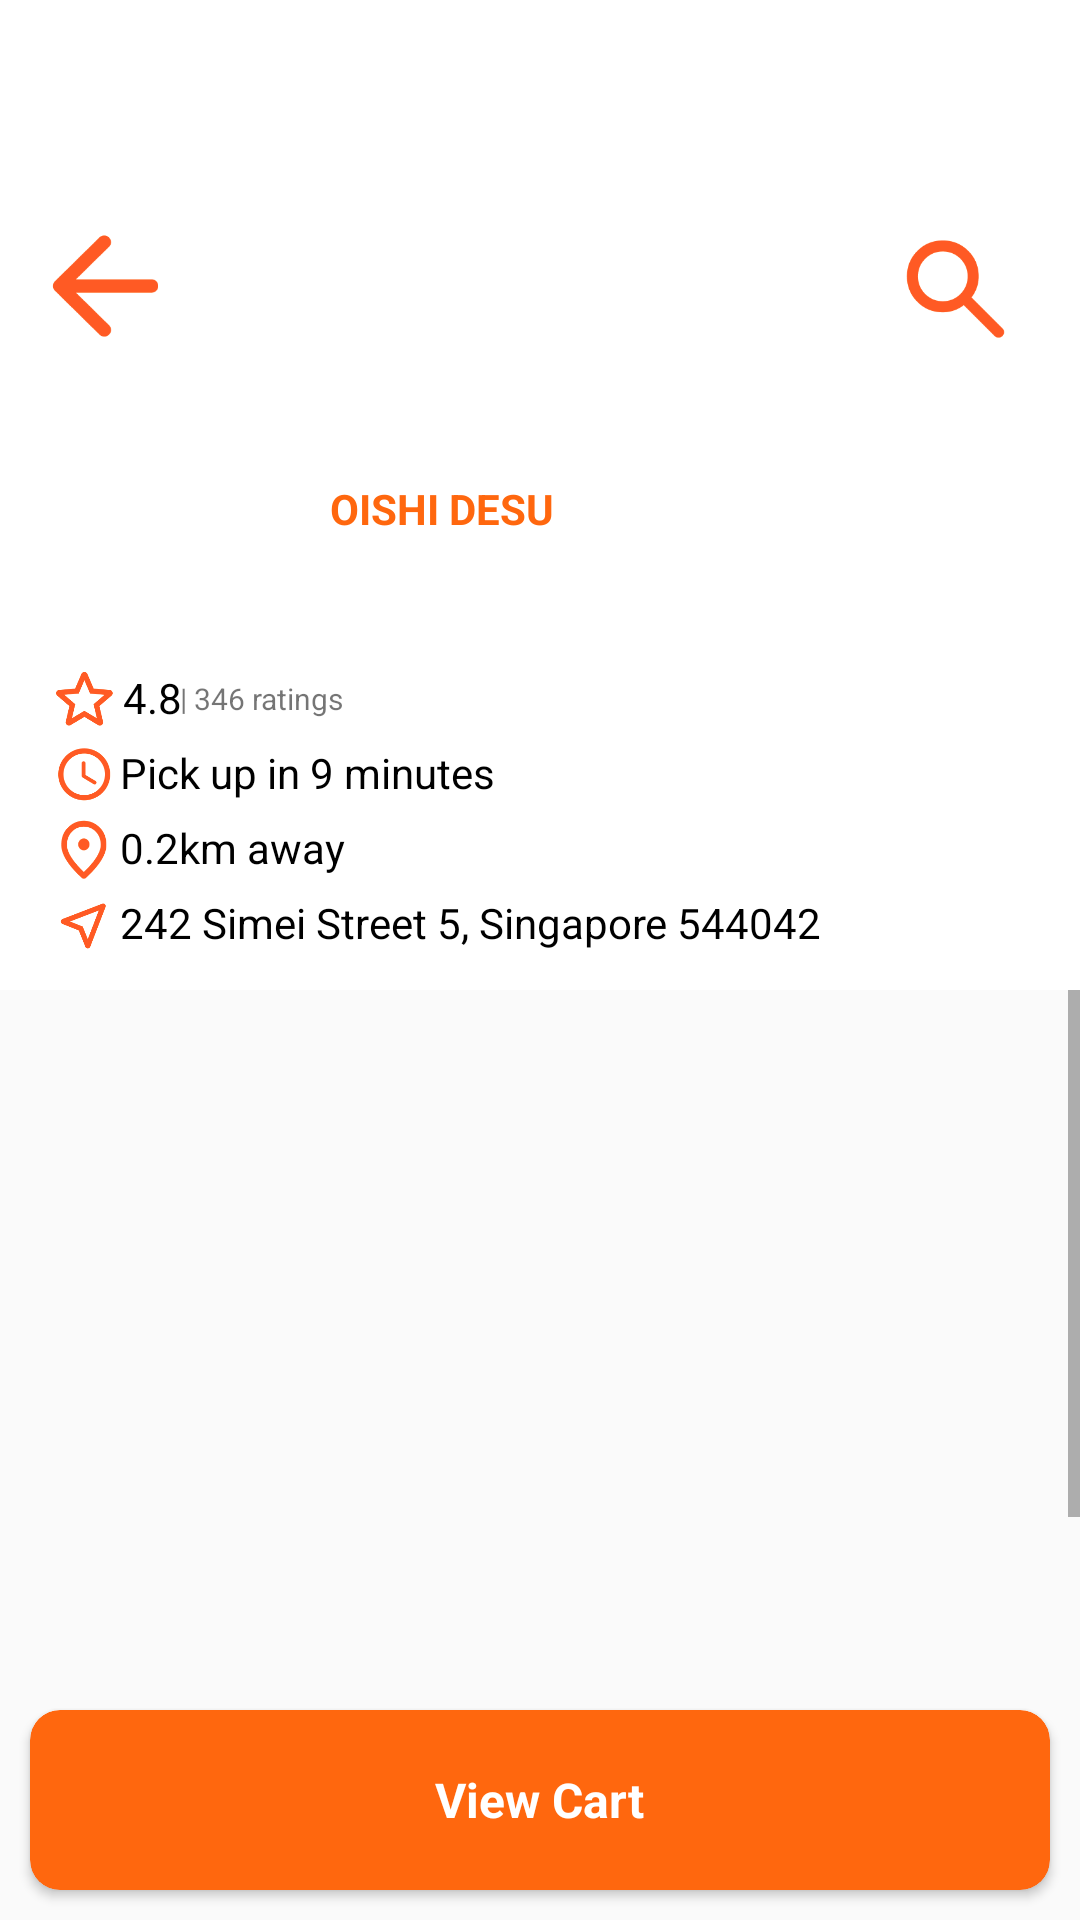

Icon click points for this 1080x1920 phone screenshot, format point (x, y):
arrow: point (105, 286)
duration: point (84, 774)
fav: point (84, 699)
search: point (955, 289)
